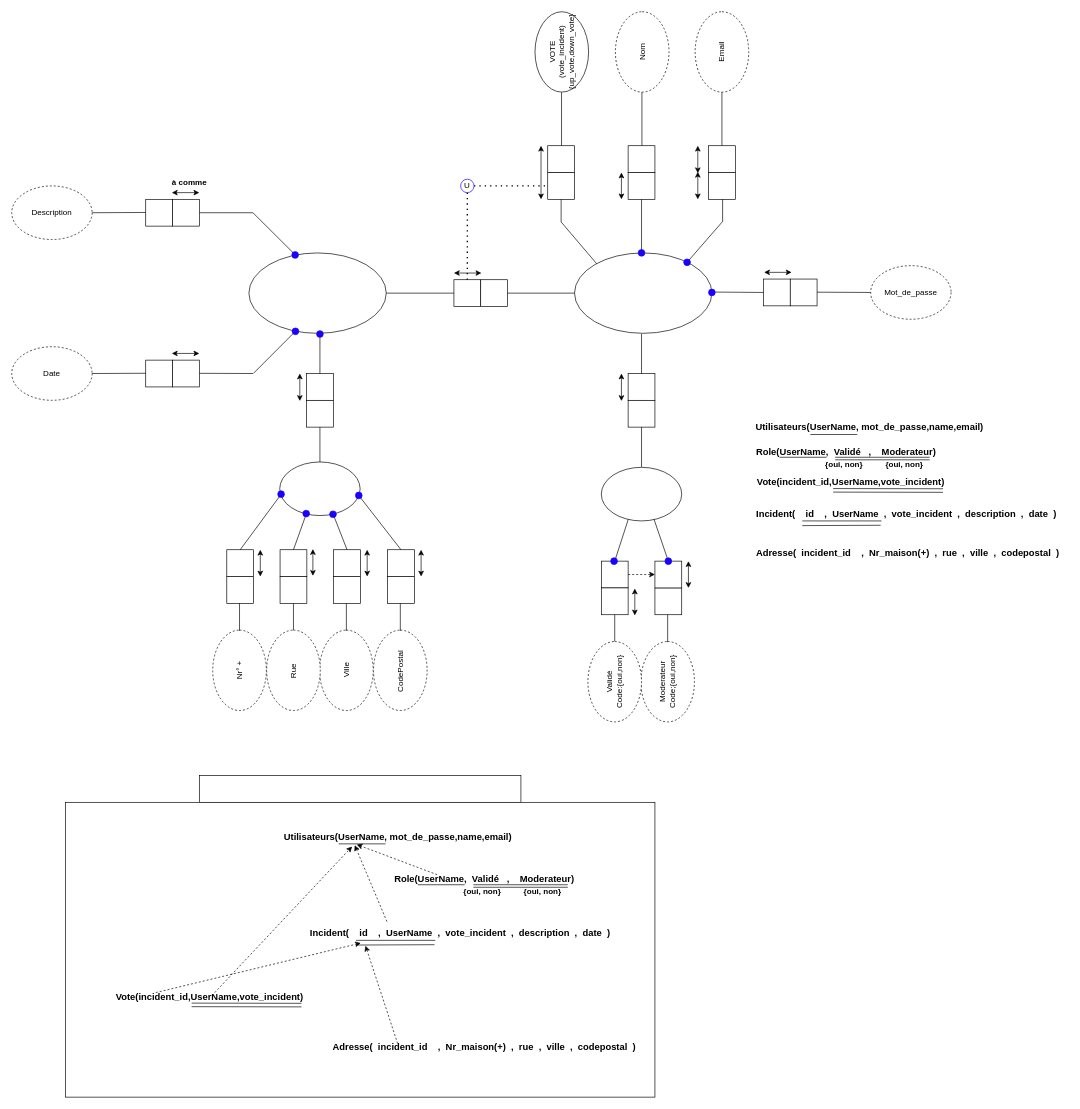
Some shapes in this 1080 by 1109 pixel diagram are drawn without their labels. Here are the shapes that lost their labels. From the top down, the box of each, then its label:
(248, 252, 386, 333): INCIDENT (id)
(574, 252, 712, 333): UTILISATEUR (UserName)
(279, 461, 360, 516): ADRESSE
(601, 467, 682, 521): RÔLE
(199, 775, 521, 802): Rmap
